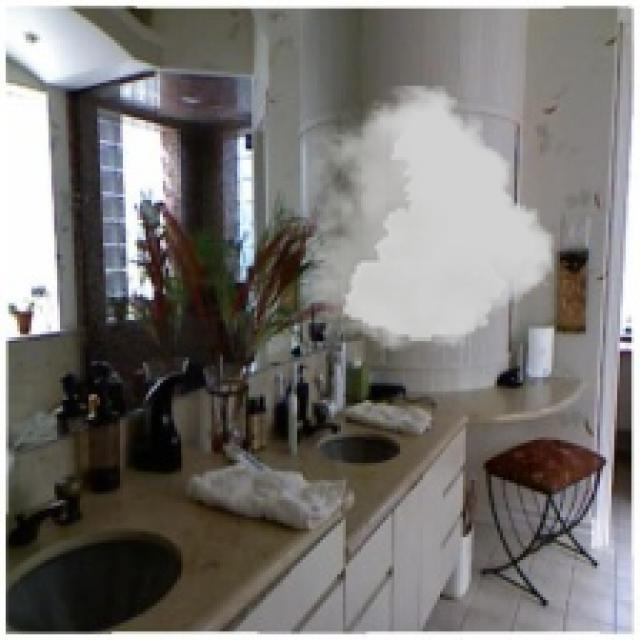smoke: (306, 86, 554, 351)
